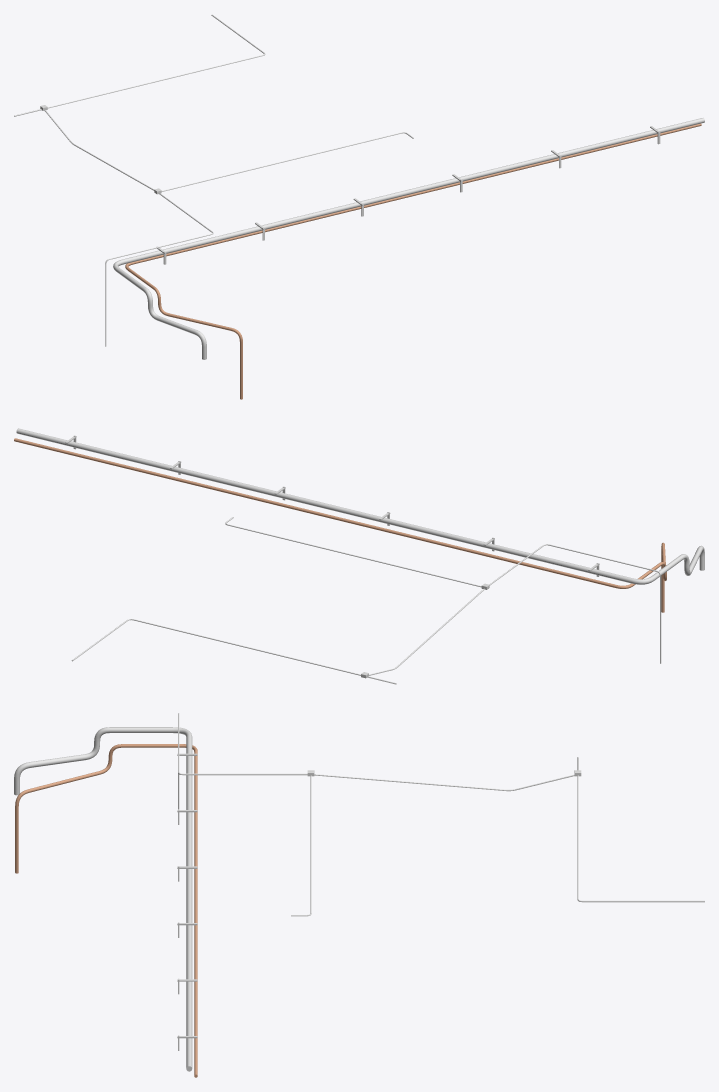
The model's file is SM_HO_Pipes.fbx.
3 views of the same model, one above another, from view 1: azimuth 30°, elevation 25°; view 2: azimuth 150°, elevation 25°; view 3: azimuth 270°, elevation 25° (orthographic). The views are drawn at different scales.
Parts seen in each view (by area): view 1: SM_HO_Pipes_1; view 2: SM_HO_Pipes_1; view 3: SM_HO_Pipes_1.
Part boxes in pixels (x1=…): SM_HO_Pipes_1: x1=14, y1=14, x2=704, y2=399; SM_HO_Pipes_1: x1=14, y1=428, x2=704, y2=684; SM_HO_Pipes_1: x1=14, y1=713, x2=704, y2=1077.
Bounding box in the file's own units: 1221 × 207 × 1034.
